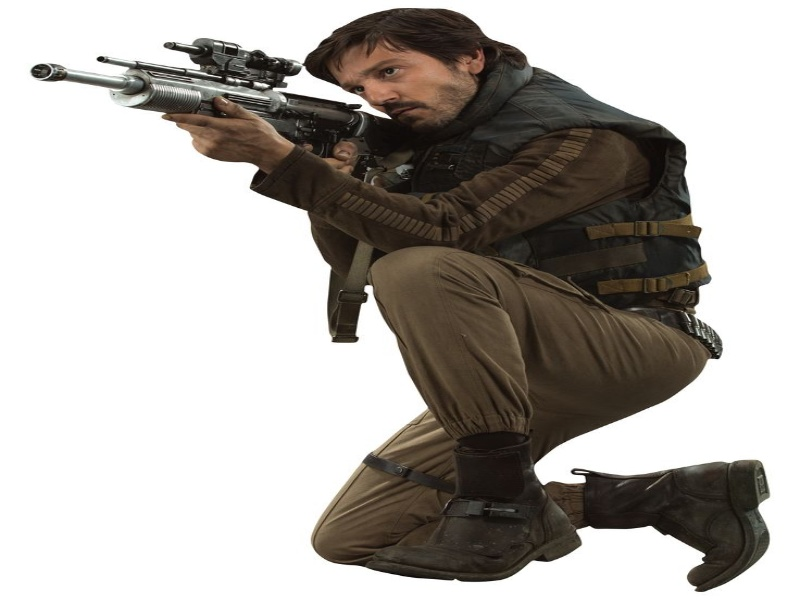person: (163, 9, 771, 590)
weapon: (30, 39, 403, 154)
